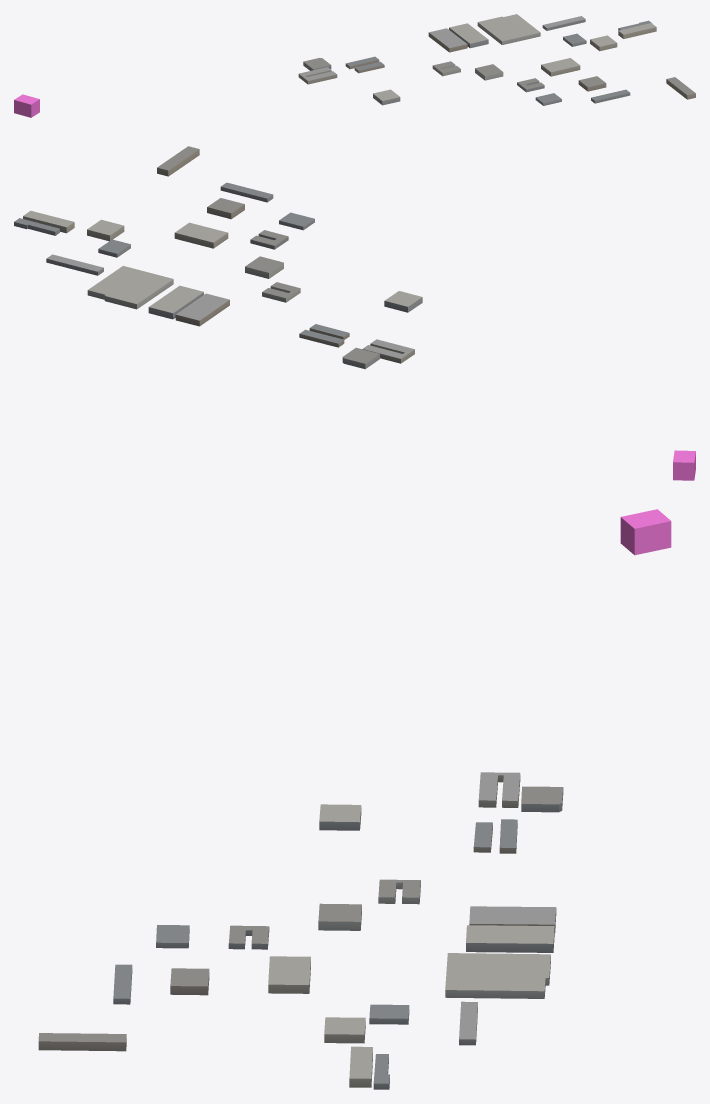
Rendered from bld_15_8.fbx.
3 views of the same model, one above another, from view 1: azimuth 30°, elevation 25°; view 2: azimuth 150°, elevation 25°; view 3: azimuth 270°, elevation 25° (orthographic). The views are drawn at different scales.
Visible parts, largest first — view 1: bld_15_8_LOD0, bld_15_8_COL; view 2: bld_15_8_LOD0, bld_15_8_COL; view 3: bld_15_8_LOD0, bld_15_8_COL.
Boxes of the visible parts, x1=… form: bld_15_8_LOD0: x1=298, y1=14, x2=695, y2=105; bld_15_8_COL: x1=14, y1=94, x2=39, y2=117; bld_15_8_LOD0: x1=14, y1=146, x2=422, y2=369; bld_15_8_COL: x1=673, y1=450, x2=695, y2=480; bld_15_8_LOD0: x1=38, y1=772, x2=563, y2=1089; bld_15_8_COL: x1=620, y1=509, x2=671, y2=555.
Size of what is drawn, in the model's own units: 1811 by 40.33 by 874.
